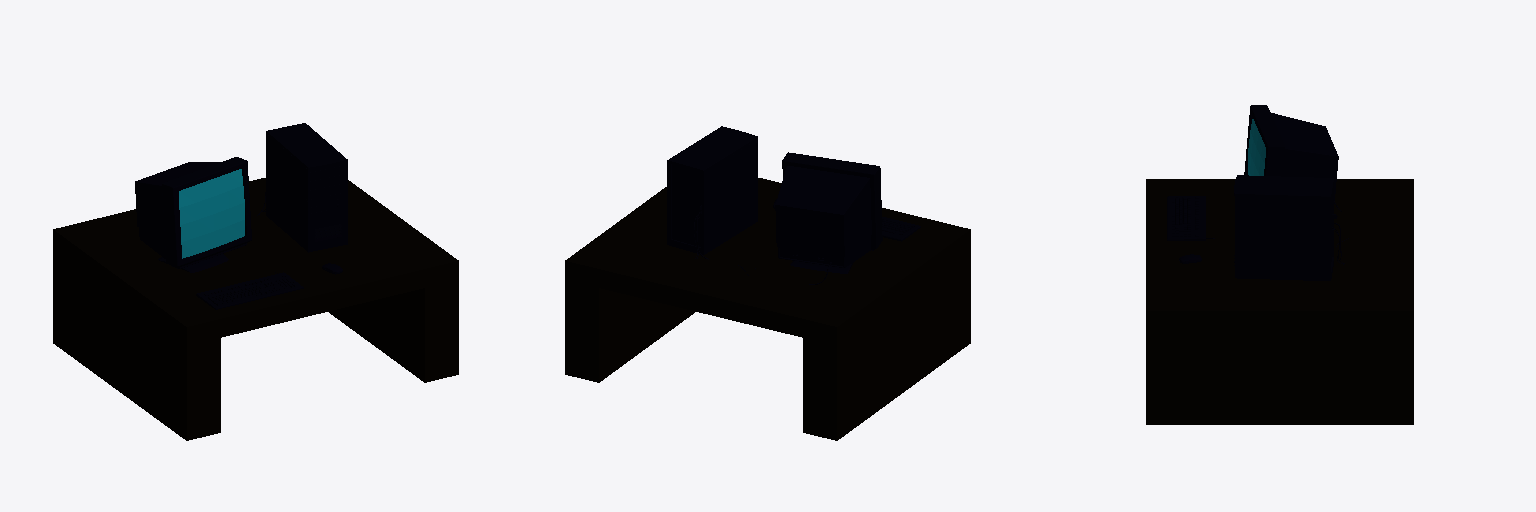
The model's file is computer2.obj.
3 renders of one model, left to right at view 1: azimuth 30°, elevation 25°; view 2: azimuth 150°, elevation 25°; view 3: azimuth 270°, elevation 25°, orthographic.
Parts seen in each view (by area): view 1: Cube_Cube.002, retro_computer_setup_retro_computer_setup.001; view 2: Cube_Cube.002, retro_computer_setup_retro_computer_setup.001; view 3: Cube_Cube.002, retro_computer_setup_retro_computer_setup.001.
Part boxes in pixels (x1,y1,x2,y2): Cube_Cube.002: (53, 178, 458, 440); retro_computer_setup_retro_computer_setup.001: (135, 123, 347, 309); Cube_Cube.002: (565, 178, 970, 440); retro_computer_setup_retro_computer_setup.001: (667, 126, 920, 284); Cube_Cube.002: (1146, 179, 1413, 424); retro_computer_setup_retro_computer_setup.001: (1167, 105, 1348, 280).
Bounding box in the file's own units: 1.5 × 1.08 × 1.28.